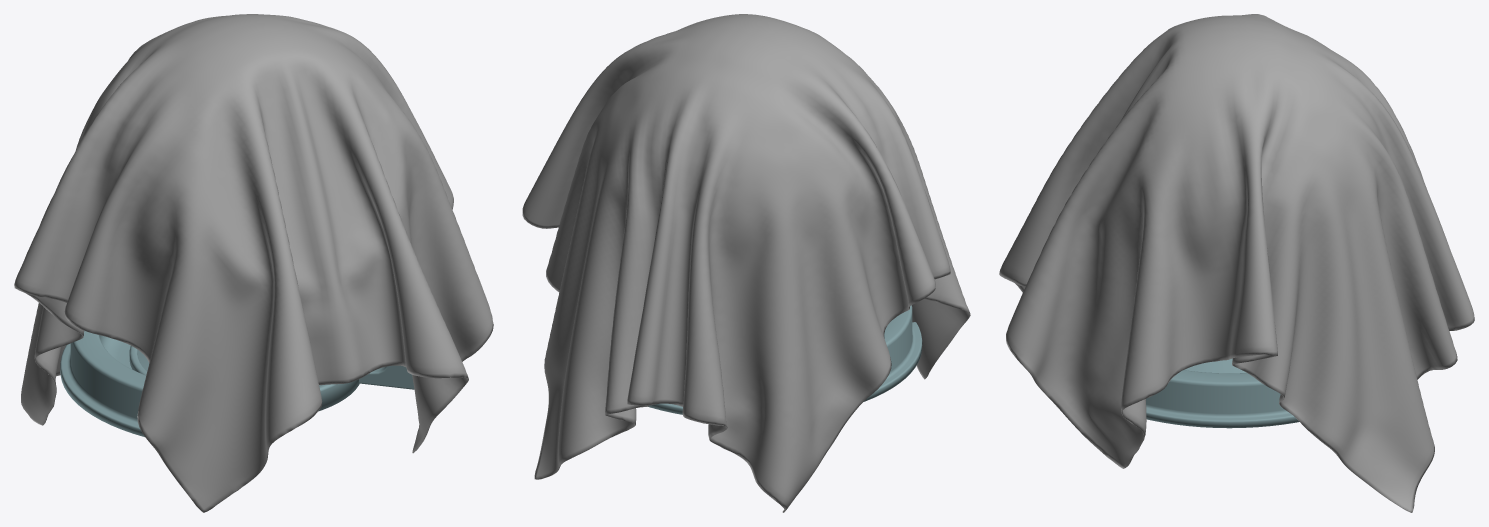
The model's file is ClothWithMaterialSphere.obj.
3 renders of one model, left to right at view 1: azimuth 30°, elevation 25°; view 2: azimuth 150°, elevation 25°; view 3: azimuth 270°, elevation 25°, orthographic. The views are drawn at different scales.
Parts seen in each view (by area): view 1: Cloth_Plane.004, Material_Sphere; view 2: Cloth_Plane.004, Material_Sphere; view 3: Cloth_Plane.004, Material_Sphere.
Part boxes in pixels (x1,y1,x2,y2): Cloth_Plane.004: (14, 14, 493, 512); Material_Sphere: (60, 330, 414, 436); Cloth_Plane.004: (522, 14, 970, 512); Material_Sphere: (648, 305, 922, 414); Cloth_Plane.004: (999, 14, 1474, 512); Material_Sphere: (1146, 358, 1299, 428).
Bounding box in the file's own units: 3.03 × 2.95 × 3.02.
